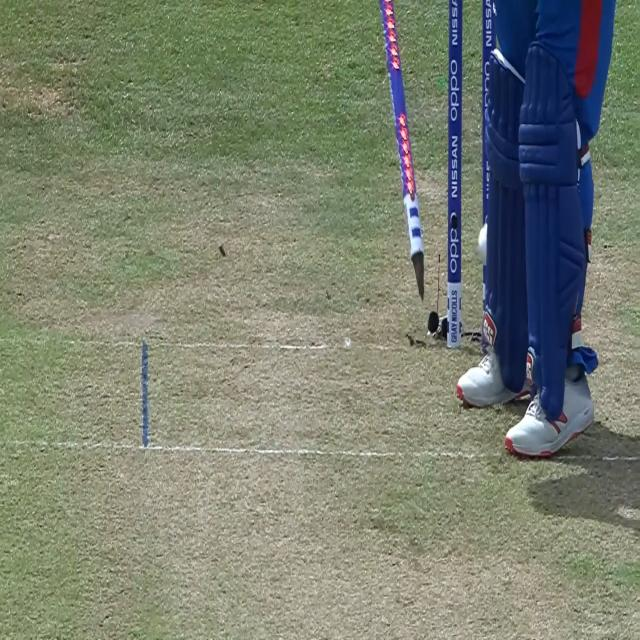ball: (474, 218, 487, 266)
